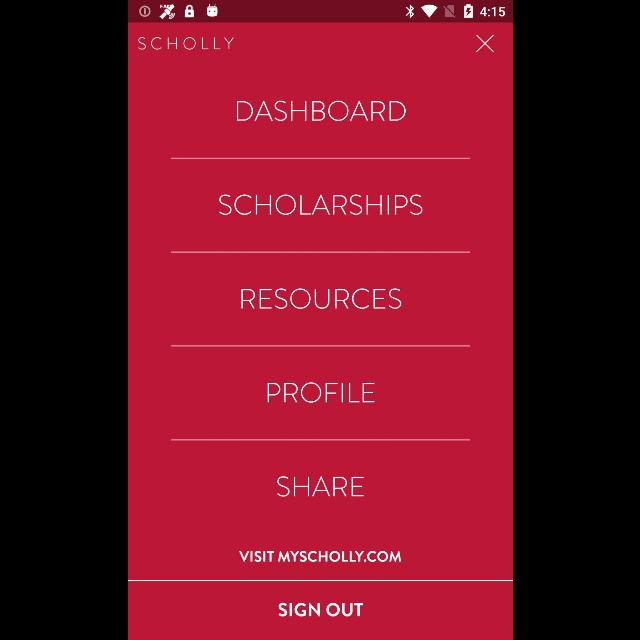icon: (475, 35, 493, 53)
text: (218, 194, 422, 216), (236, 100, 406, 122), (241, 288, 401, 310), (266, 382, 374, 404), (238, 550, 402, 562), (276, 476, 364, 496), (137, 38, 233, 51)
textbutton: (128, 580, 512, 640)
uppertaskbar: (128, 1, 512, 23)
